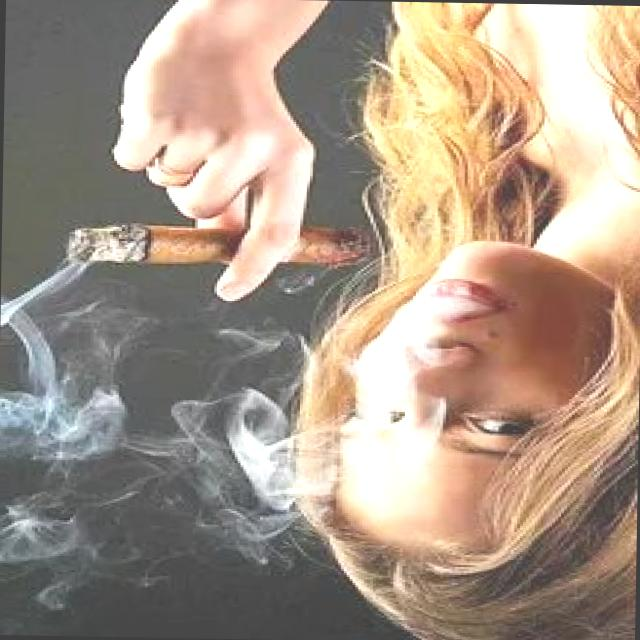cigarette: (54, 219, 373, 273)
